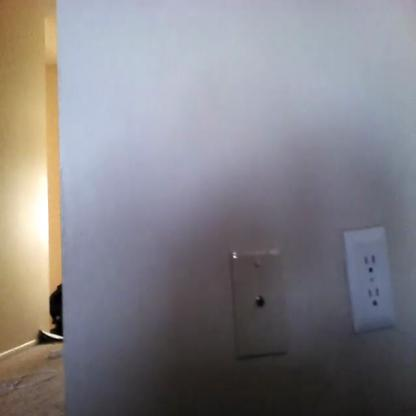OUTLET: (345, 232, 393, 328)
